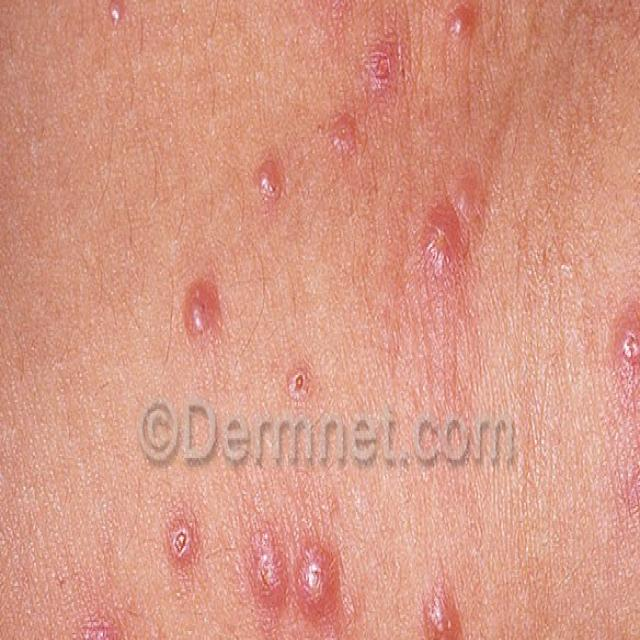Viral Infections: (213, 11, 509, 209), (400, 146, 640, 386), (150, 476, 492, 640), (141, 241, 339, 418)
